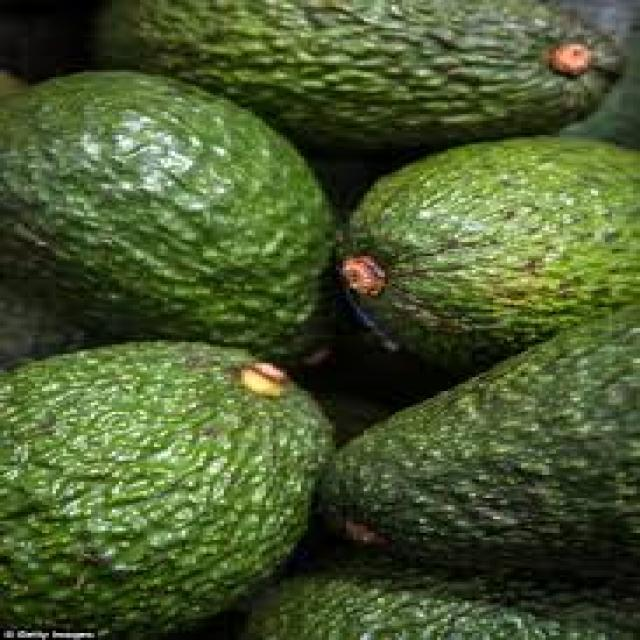organic waste: (0, 338, 329, 638), (0, 67, 329, 366), (325, 294, 637, 586), (84, 0, 626, 140), (325, 135, 637, 375), (245, 558, 636, 638)
